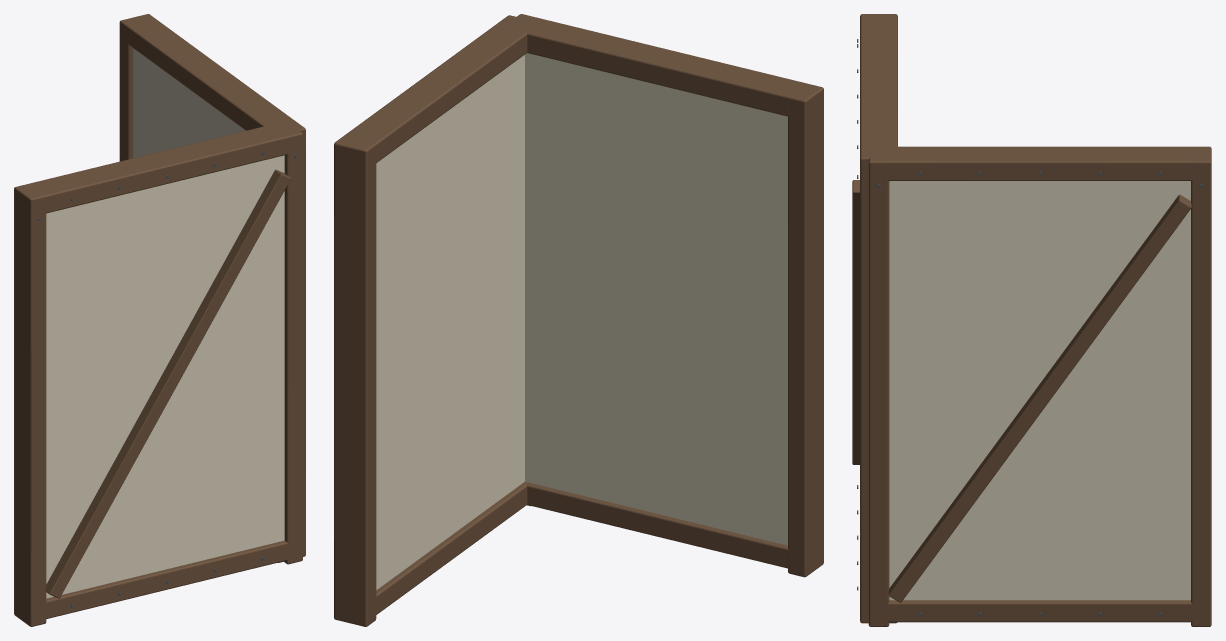
File: adventurers-tavern-and-guild-hall-timber-wall-corner-2a393c90__24664.glb
3 views of the same model, side by side, from view 1: azimuth 30°, elevation 25°; view 2: azimuth 150°, elevation 25°; view 3: azimuth 270°, elevation 25° (orthographic). The views are drawn at different scales.
Visible parts, largest first — view 1: timber-wall-corner; view 2: timber-wall-corner; view 3: timber-wall-corner.
Boxes of the visible parts, x1,y1,x2,y2 form: timber-wall-corner: (14, 14, 305, 626); timber-wall-corner: (334, 14, 823, 626); timber-wall-corner: (852, 14, 1211, 626).
Bounding box in the file's own units: 2.09 × 3 × 2.09.
